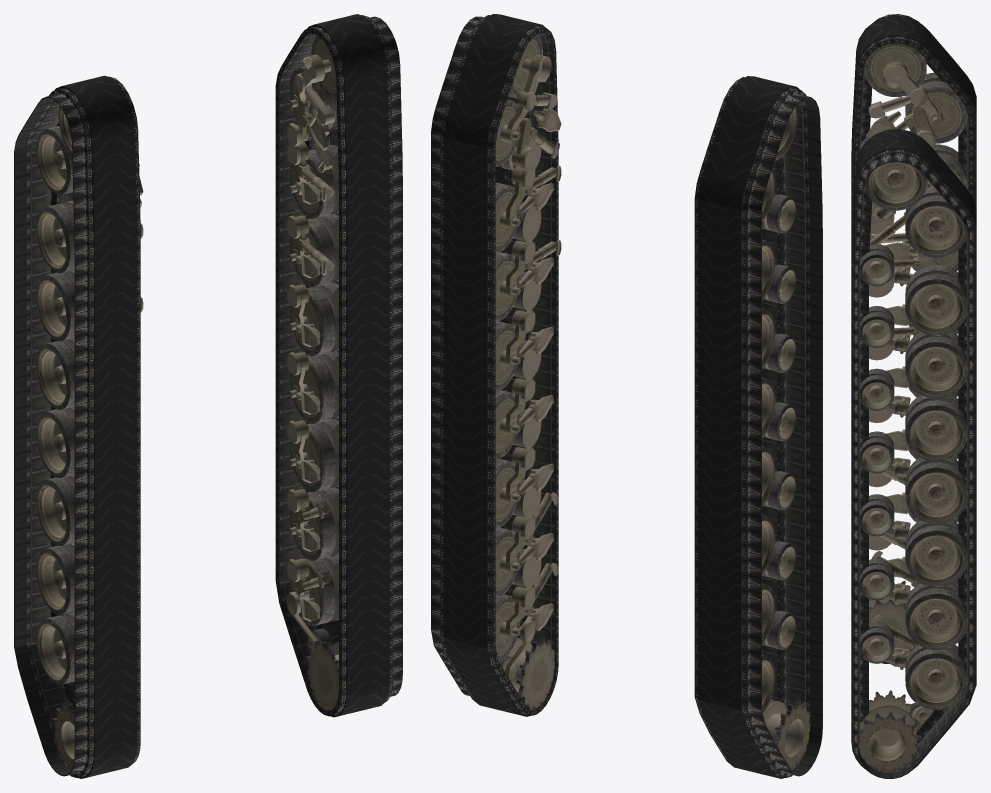
File: Chassis.glb
3 views of the same model, side by side, from view 1: azimuth 30°, elevation 25°; view 2: azimuth 150°, elevation 25°; view 3: azimuth 270°, elevation 25° (orthographic). The views are drawn at different scales.
Parts seen in each view (by area): view 1: set_4_group_0, set_5_group_0, set_1_group_0, set_3_group_0, set_0_group_0; view 2: set_4_group_0, set_5_group_0, set_1_group_0, set_3_group_0, set_0_group_0; view 3: set_1_group_0, set_5_group_0, set_3_group_0, set_4_group_0.
Part boxes in pixels (box(x1,y1,x2,y2)): set_4_group_0: box(14, 75, 140, 778); set_5_group_0: box(275, 14, 402, 717); set_1_group_0: box(286, 35, 393, 713); set_3_group_0: box(36, 106, 143, 775); set_0_group_0: box(289, 236, 309, 468); set_4_group_0: box(694, 76, 822, 778); set_5_group_0: box(431, 14, 558, 716); set_1_group_0: box(495, 34, 561, 709); set_3_group_0: box(762, 106, 810, 770); set_0_group_0: box(499, 255, 532, 503); set_1_group_0: box(852, 162, 967, 772); set_5_group_0: box(851, 129, 976, 778); set_3_group_0: box(860, 43, 967, 649); set_4_group_0: box(851, 14, 976, 663).
Bounding box in the file's own units: 3.67 × 7.32 × 1.32.
Materials: 6 (6 with a texture image).
